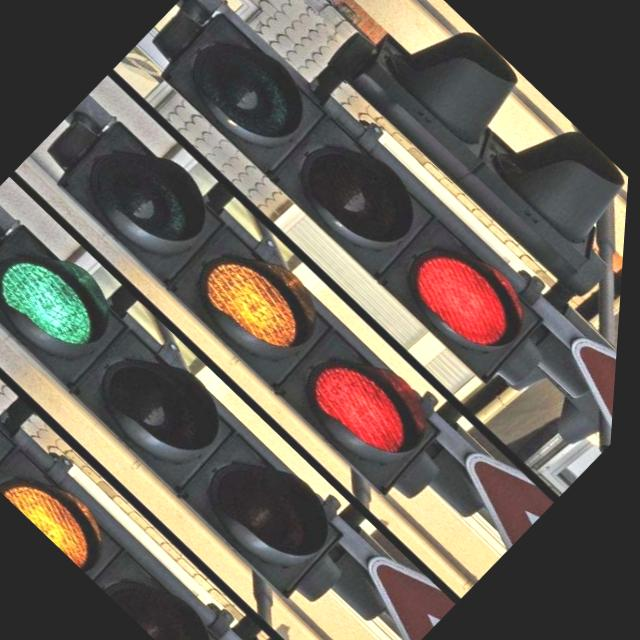Hijau: (0, 242, 119, 366)
Kuning: (189, 244, 325, 368), (1, 464, 121, 572)
Merah: (394, 235, 533, 363), (297, 346, 432, 470)
